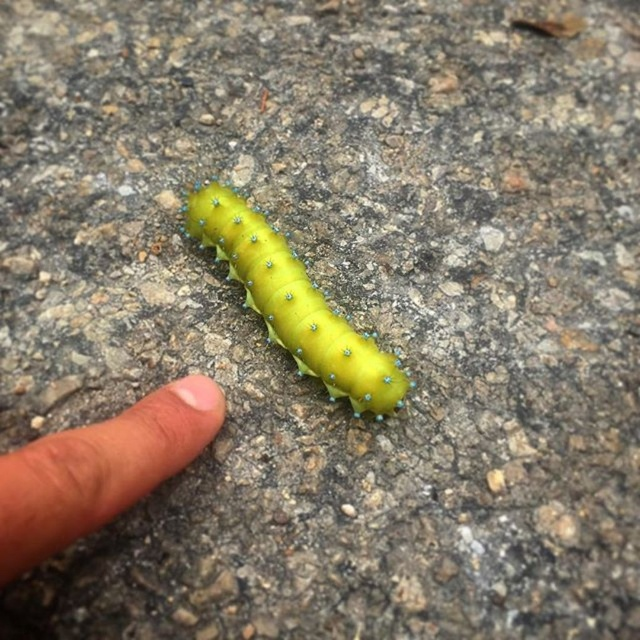Caterpillar: (179, 174, 416, 422)
